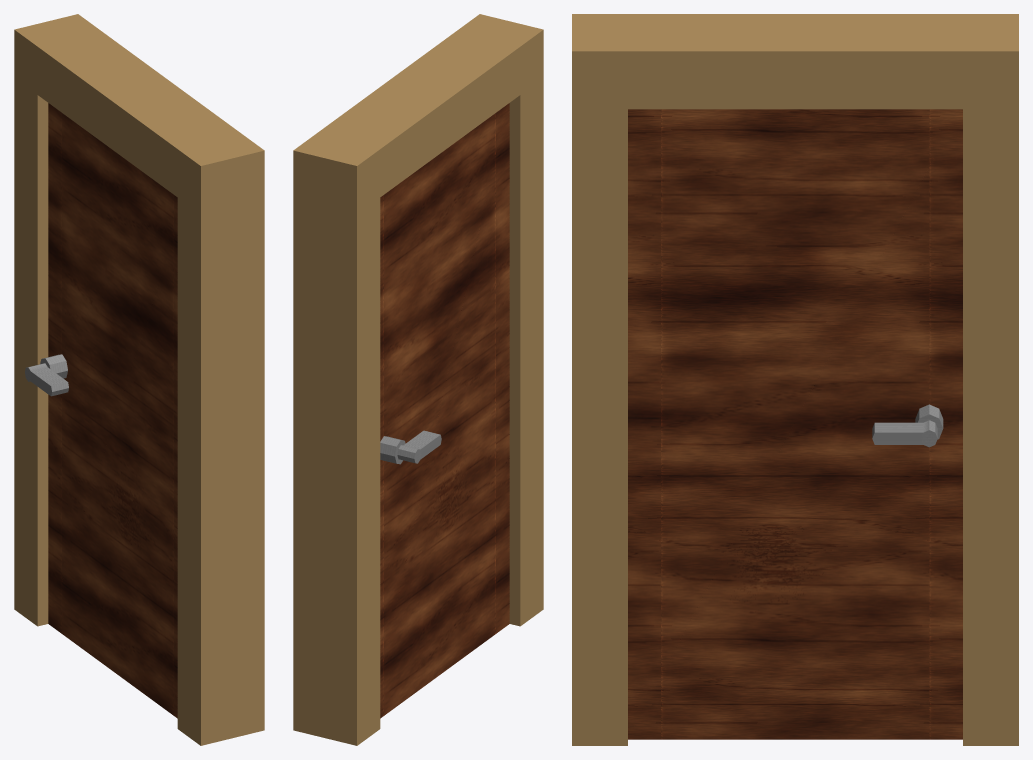
Rendered from Door_1_5_3_Colored.fbx.
3 renders of one model, left to right at view 1: azimuth 30°, elevation 25°; view 2: azimuth 150°, elevation 25°; view 3: azimuth 270°, elevation 25°, orthographic. The views are drawn at different scales.
Visible parts, largest first — view 1: Door_Casing1, Door, Handle_Front; view 2: Door_Casing1, Door, Handle_Front; view 3: Door, Door_Casing1, Handle_Back.
Part boxes in pixels (<box>): Door_Casing1: <box>14,14,264,745</box>; Door: <box>48,103,177,718</box>; Handle_Front: <box>25,354,68,396</box>; Door_Casing1: <box>293,14,543,745</box>; Door: <box>380,103,509,718</box>; Handle_Front: <box>380,430,441,464</box>; Door: <box>628,109,962,739</box>; Door_Casing1: <box>572,14,1018,745</box>; Handle_Back: <box>872,404,943,447</box>.
Size of the model in its own units: 99.59 by 499 by 291.
3 materials, 2 textured.
